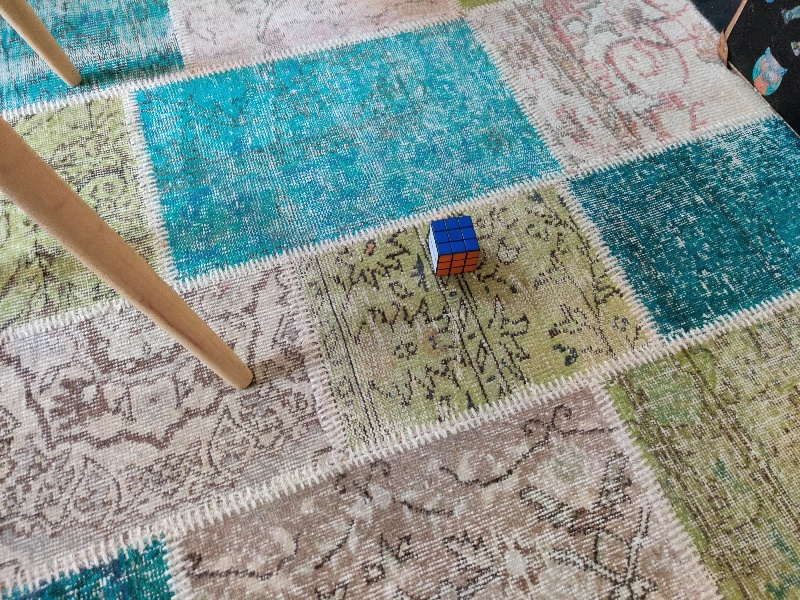rubik: (426, 216, 482, 278)
